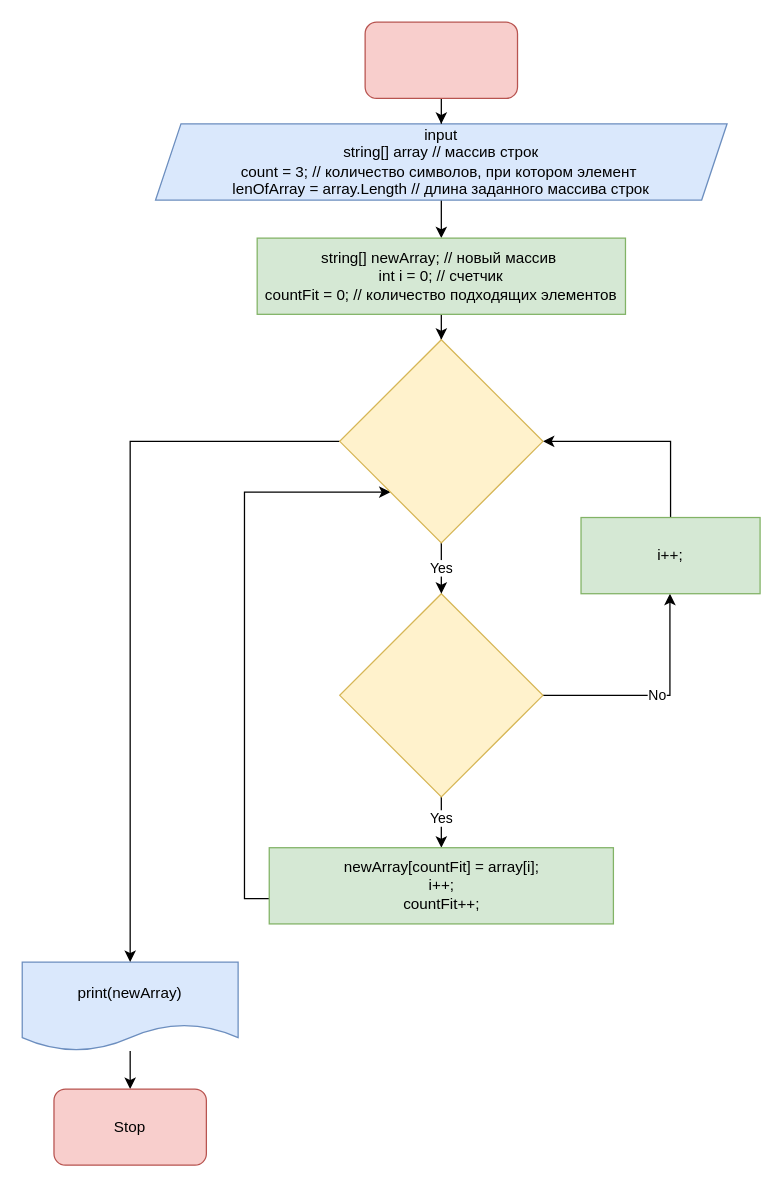
Some shapes in this 782 by 1187 pixel diagram are drawn without their labels. The shapes that lost their labels are listed below. From the top down, each one's box as (x1, y1, x2, y2) in pixels, then its label:
(364, 21, 518, 98): Start
(338, 338, 543, 543): if i <= lenOfArray;
(338, 592, 543, 797): if(array[i].length <= count)
